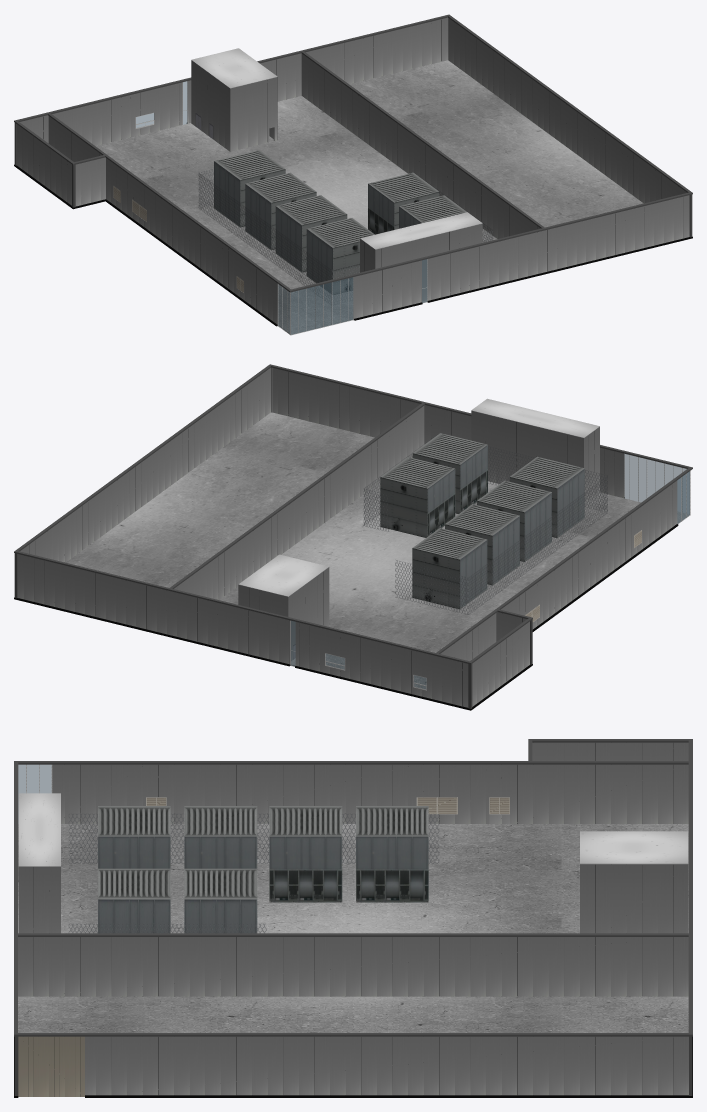
3 views of the same model, one above another, from view 1: azimuth 30°, elevation 25°; view 2: azimuth 150°, elevation 25°; view 3: azimuth 270°, elevation 25° (orthographic). The views are drawn at different scales.
Parts seen in each view (by area): view 1: Rectangle1766, Line1197, W&FF-PH-01, Line1203, Rectangle1767, W&FF-PH-02, Rectangle1769; view 2: Rectangle1766, Line1197, W&FF-PH-01, Line1203, W&FF-PH-02, Rectangle1769, Rectangle1767; view 3: Rectangle1766, Line1197, W&FF-PH-01, Line1203, Rectangle1769, W&FF-PH-02, PH환풍구001, Rectangle1767.
Boxes of the visible parts, x1,y1,x2,y2 form: Rectangle1766: [16, 17, 689, 325]; Line1197: [96, 60, 643, 334]; W&FF-PH-01: [214, 150, 466, 294]; Line1203: [14, 14, 692, 326]; Rectangle1767: [135, 81, 427, 335]; W&FF-PH-02: [198, 169, 493, 304]; Rectangle1769: [191, 48, 482, 249]; Rectangle1766: [17, 367, 677, 707]; Line1197: [66, 412, 689, 689]; W&FF-PH-01: [380, 433, 584, 609]; Line1203: [14, 364, 692, 710]; W&FF-PH-02: [363, 434, 607, 614]; Rectangle1769: [238, 398, 599, 596]; Rectangle1767: [290, 453, 690, 690]; Rectangle1766: [18, 742, 688, 1096]; Line1197: [18, 824, 688, 1032]; W&FF-PH-01: [98, 806, 428, 933]; Line1203: [14, 739, 692, 1097]; Rectangle1769: [18, 793, 688, 866]; W&FF-PH-02: [68, 813, 439, 933]; PH환풍구001: [146, 797, 509, 814]; Rectangle1767: [18, 764, 52, 823].
Size of the model in its own units: 67.25 by 9.55 by 65.25.
15 materials, 13 textured.
